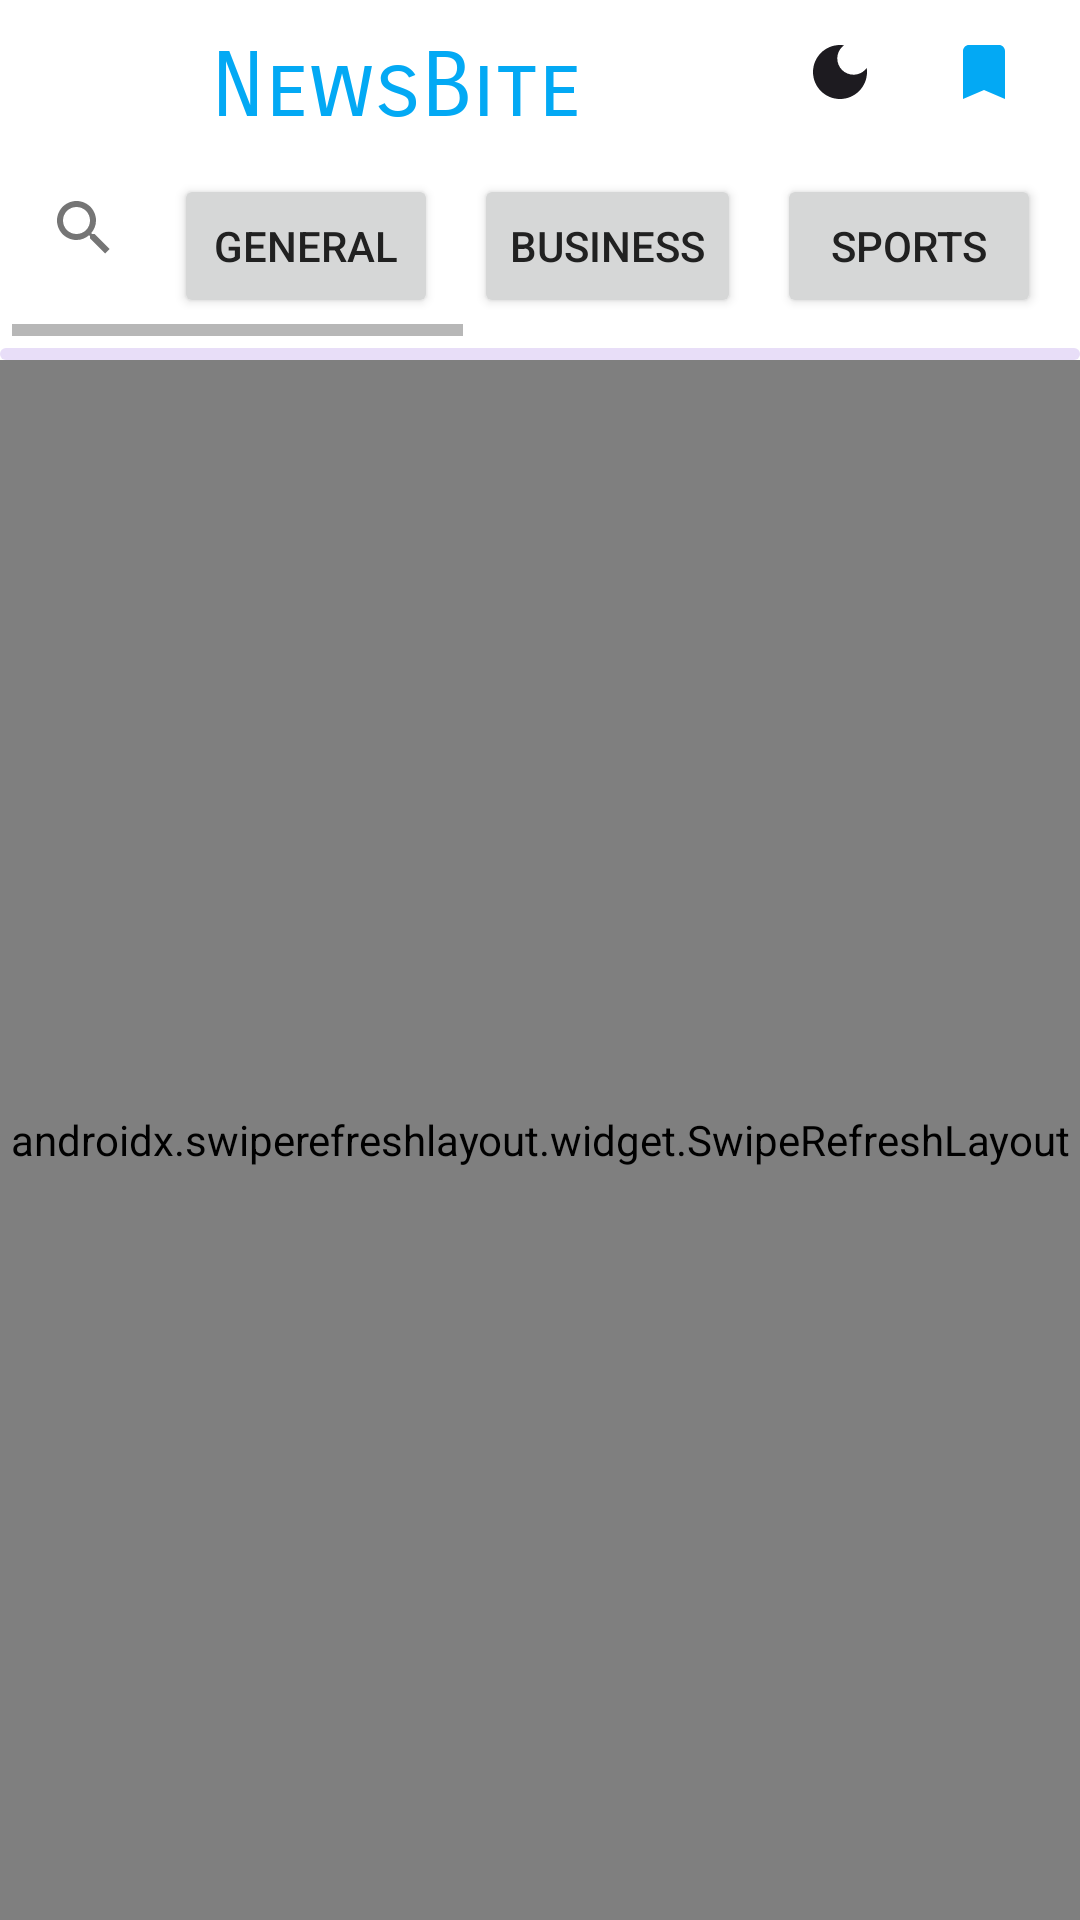

Screen size 1080px x 1920px. Icon name, then its center in pixels as point (x, y):
Toggle dark mode: point (840, 72)
View bookmarks: point (984, 72)
